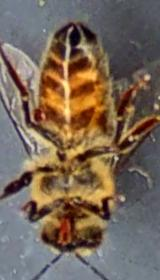varroa_mite: (24, 92, 50, 133)
